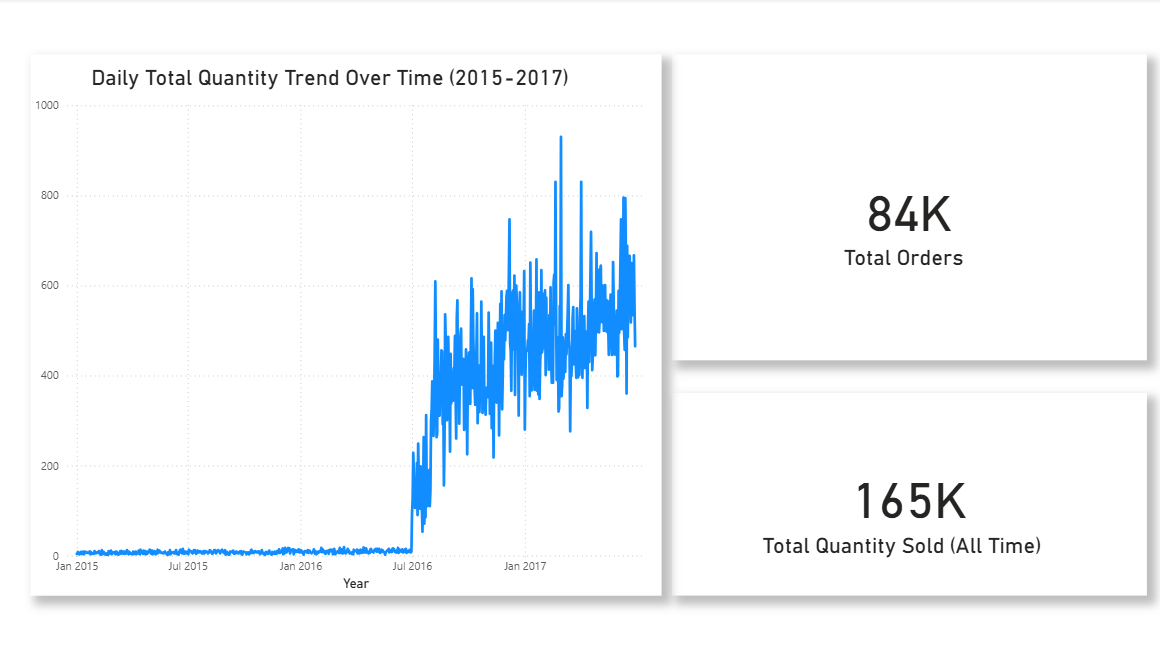

What the dashboard file says about the page in this screenshot:
{"tool":"powerbi","page":{"name":"Page 1","canvas":[1280,720],"ordinal":0},"visuals":[{"type":"lineChart","fields":{"Y":["Sum(gold ext_sales.TotalQuantity)"],"Category":["gold ext_sales.OrderDate.Variation.Date Hierarchy.Year","gold ext_sales.OrderDate.Variation.Date Hierarchy.Quarter","gold ext_sales.OrderDate.Variation.Date Hierarchy.Month","gold ext_sales.OrderDate.Variation.Date Hierarchy.Day"]},"box":[35.7,61.7,693,594.2],"z":0,"group":"g1"},{"type":"card","fields":{"Values":["Sum(gold ext_sales.OrderQuantity)"]},"box":[739.6,61.7,521.4,336.2],"z":0},{"type":"card","fields":{"Values":["Sum(gold ext_sales.TotalQuantity)"]},"box":[739.6,433.6,521.4,222.3],"z":1000},{"type":"textbox","box":[923.5,266.2,152.3,46.7],"z":2000},{"type":"group","id":"g1","title":"Group 2","box":[35.7,61.7,693,594.2],"z":3000},{"type":"textbox","box":[97.4,68.6,570.8,45.3],"z":3000,"group":"g1"},{"type":"textbox","box":[834.3,581.8,333.4,43.9],"z":4000}]}

Visuals, with their boxes in screenshot pixels (x1, y1, x2, y2), scaled from the page's 1280x720 canvas onto the 1160x650 screenshot:
lineChart - Sum(gold ext_sales.TotalQuantity) x gold ext_sales.OrderDate.Variation.Date Hierarchy.Year: (x1=32, y1=56, x2=660, y2=592)
card - Sum(gold ext_sales.OrderQuantity): (x1=670, y1=56, x2=1143, y2=359)
card - Sum(gold ext_sales.TotalQuantity): (x1=670, y1=391, x2=1143, y2=592)
textbox: (x1=837, y1=240, x2=975, y2=282)
"Group 2" group: (x1=32, y1=56, x2=660, y2=592)
textbox: (x1=88, y1=62, x2=606, y2=103)
textbox: (x1=756, y1=525, x2=1058, y2=565)
